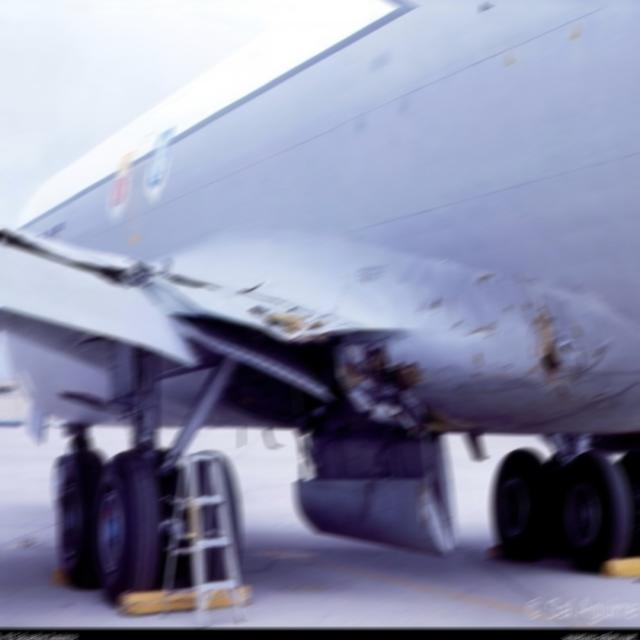dent: (398, 264, 525, 364)
